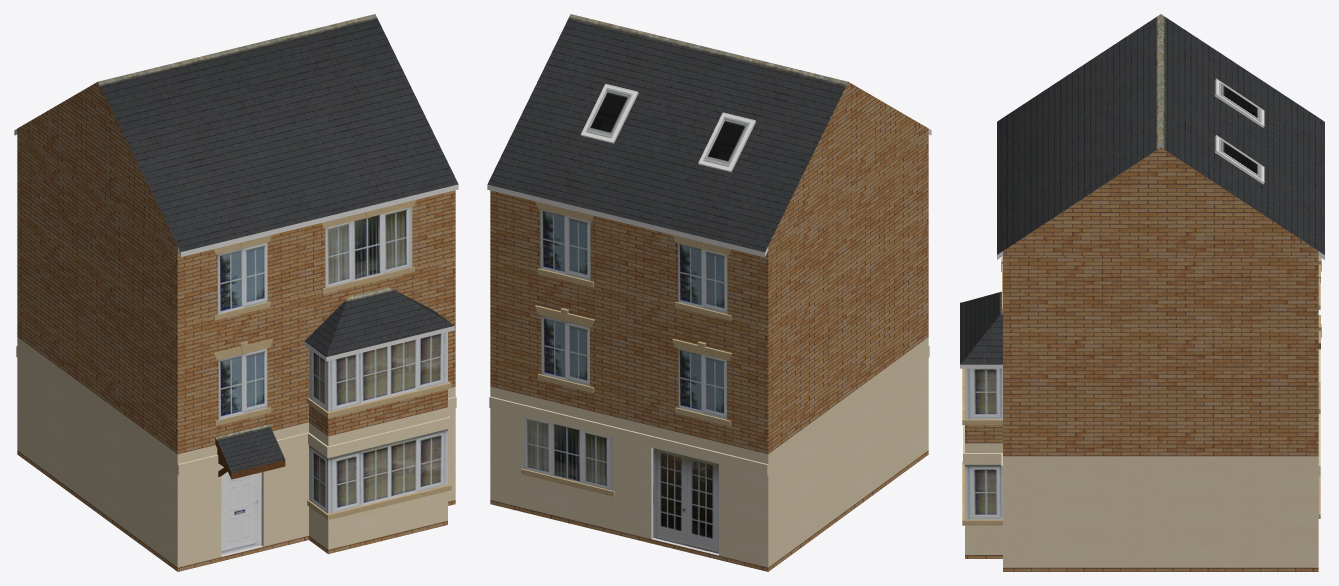
Rendered from modernterrace3story1.FBX.
3 renders of one model, left to right at view 1: azimuth 30°, elevation 25°; view 2: azimuth 150°, elevation 25°; view 3: azimuth 270°, elevation 25°, orthographic.
Visible parts, largest first — view 1: Box001; view 2: Box001; view 3: Box001.
Boxes of the visible parts, left/top/right/bottom form: Box001: left=14, top=14, right=458, bottom=571; Box001: left=487, top=14, right=931, bottom=571; Box001: left=960, top=14, right=1324, bottom=571.
Bounding box in the file's own units: 800 × 1188 × 925.
